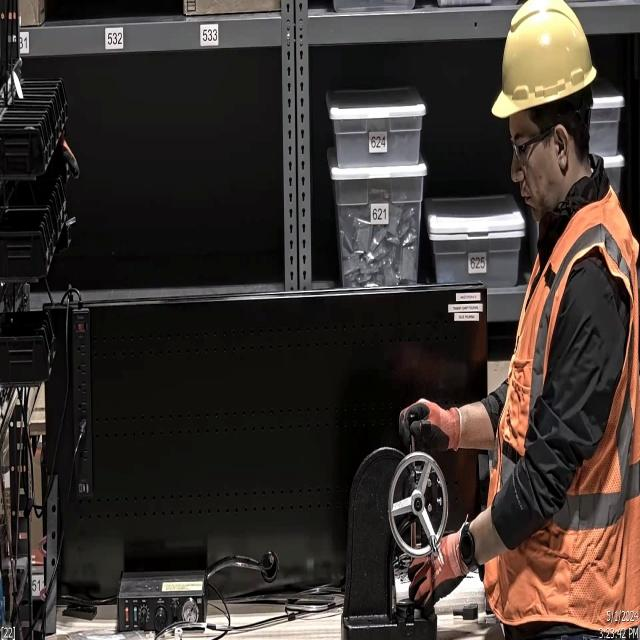construction-gloves: (402, 526, 462, 612)
